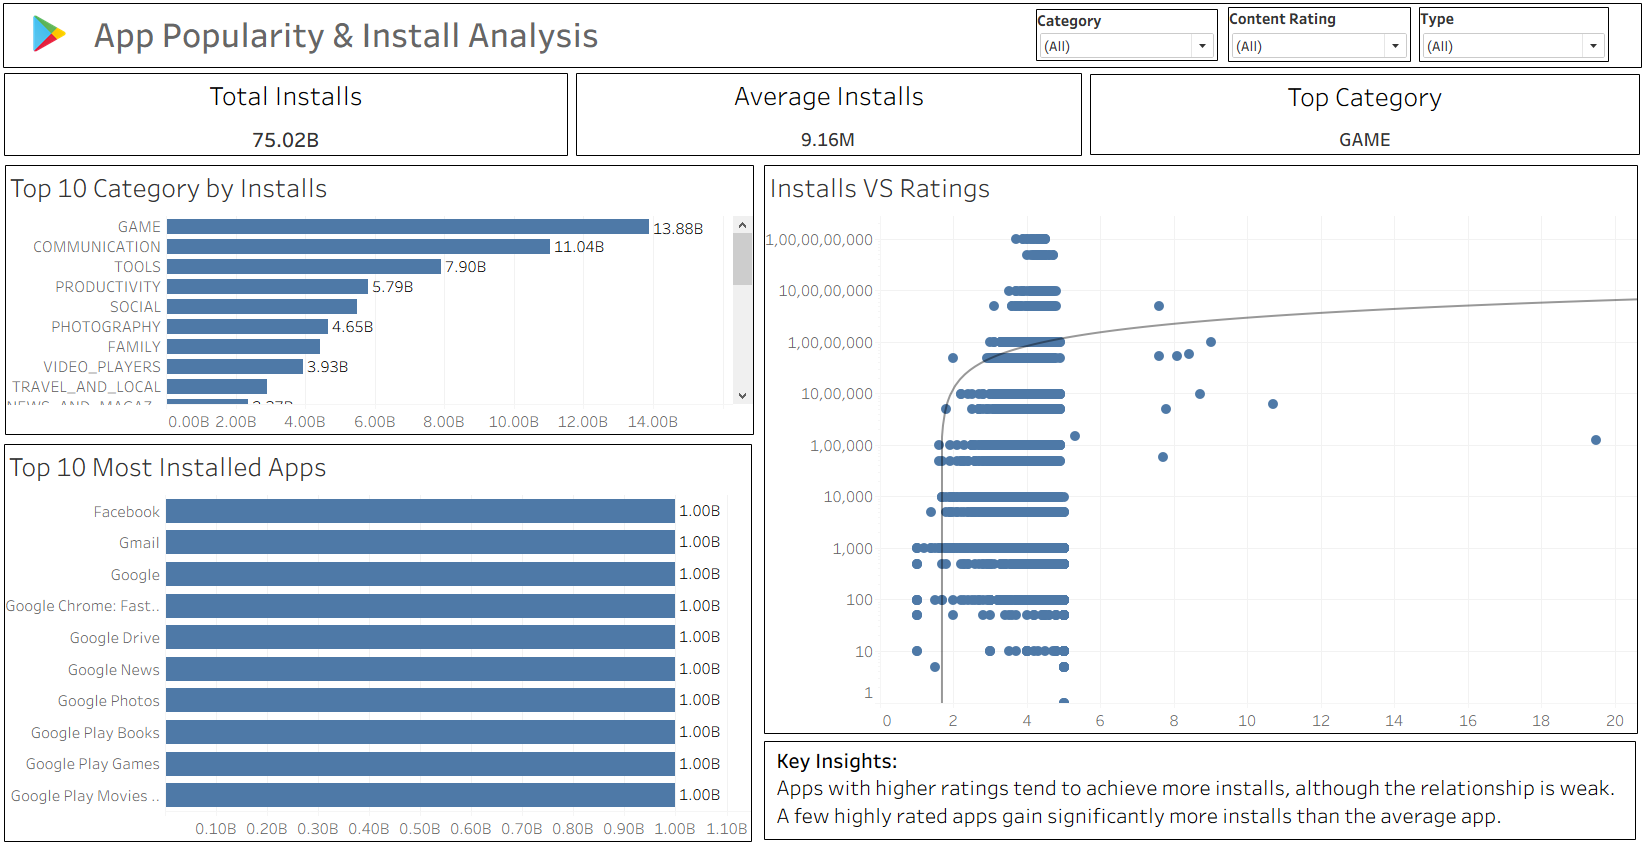

The page's visual inventory and layout, read from the dashboard file:
{"tool":"tableau","page":{"name":"App Popularity & Install Analysis","canvas":[1000,1000],"units":"permille","ordinal":0},"visuals":[{"type":"filter","title":"KPI Total Installs","param":"[federated.0rvsowf13khu5d18i3vno1nwu3qx].[none:Content Rating:nk]","box":[745.9,18.6,110.4,63.9]},{"type":"filter","title":"KPI Total Installs","param":"[federated.0rvsowf13khu5d18i3vno1nwu3qx].[none:Type:nk]","box":[861.2,18.6,114.7,63.9]},{"type":"filter","title":"KPI Total Installs","param":"[federated.0rvsowf13khu5d18i3vno1nwu3qx].[none:Category:nk]","box":[630.1,20.9,109.8,60.4]},{"type":"text","box":[59.1,23.2,309.6,52.3]},{"type":"image","param":"C:/Users/DELL/Downloads/google-play-logo-png_seeklogo-318439-removebg-preview.pn","box":[22.3,25.6,33.2,46.5]},{"type":"worksheet","title":"KPI Total Installs","mark":"Automatic","box":[7.2,95.2,340.4,96.4]},{"type":"worksheet","title":"KPI Average Installs","mark":"Automatic","box":[352.4,95.2,305.4,96.4]},{"type":"worksheet","title":"KPI Top Catagory","mark":"Text","box":[662.6,96.4,331.9,94.1]},{"type":"worksheet","title":"Top 10 Category by Installs","mark":"Automatic","rows":["Category"],"cols":["Calculation_0998958023294981"],"box":[7.9,202.1,452,313.6]},{"type":"worksheet","title":"Installs VS Ratings","mark":"Circle","rows":["Installs"],"cols":["Rating"],"box":[465.9,202.1,527.5,660.9]},{"type":"worksheet","title":"Top 10 Apps by Installs","mark":"Automatic","rows":["App"],"cols":["Calculation_0998958023294981"],"box":[7.2,526.1,451.4,462.2]},{"type":"text","box":[471.3,868.8,517.2,113.8]}]}

Visuals, with their boxes on the dashboard's canvas, which has no fixed pixel size, in thousandths of its width and height (x1, y1, x2, y2). These are canvas units, not pixel positions in the 1643x848 screenshot, which may show the page scaled, cropped or inside an application window:
"KPI Total Installs" filter: 746, 19, 856, 82
"KPI Total Installs" filter: 861, 19, 976, 82
"KPI Total Installs" filter: 630, 21, 740, 81
text: 59, 23, 369, 76
image: 22, 26, 56, 72
"KPI Total Installs" worksheet: 7, 95, 348, 192
"KPI Average Installs" worksheet: 352, 95, 658, 192
"KPI Top Catagory" worksheet (Text marks): 663, 96, 994, 190
"Top 10 Category by Installs" worksheet: 8, 202, 460, 516
"Installs VS Ratings" worksheet (Circle marks): 466, 202, 993, 863
"Top 10 Apps by Installs" worksheet: 7, 526, 459, 988
text: 471, 869, 988, 983
